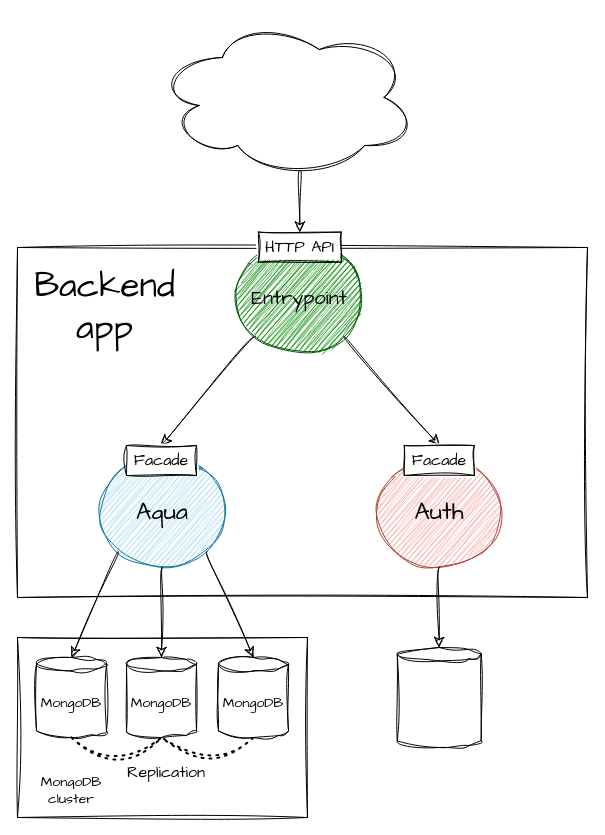
This 605x835 diagram has some shape labels left out. The shapes that lost their labels are listed below. From the top down, each one's centre as x and y in pixels, then its label:
(286,97): Frontend app
(438,697): Postgres
